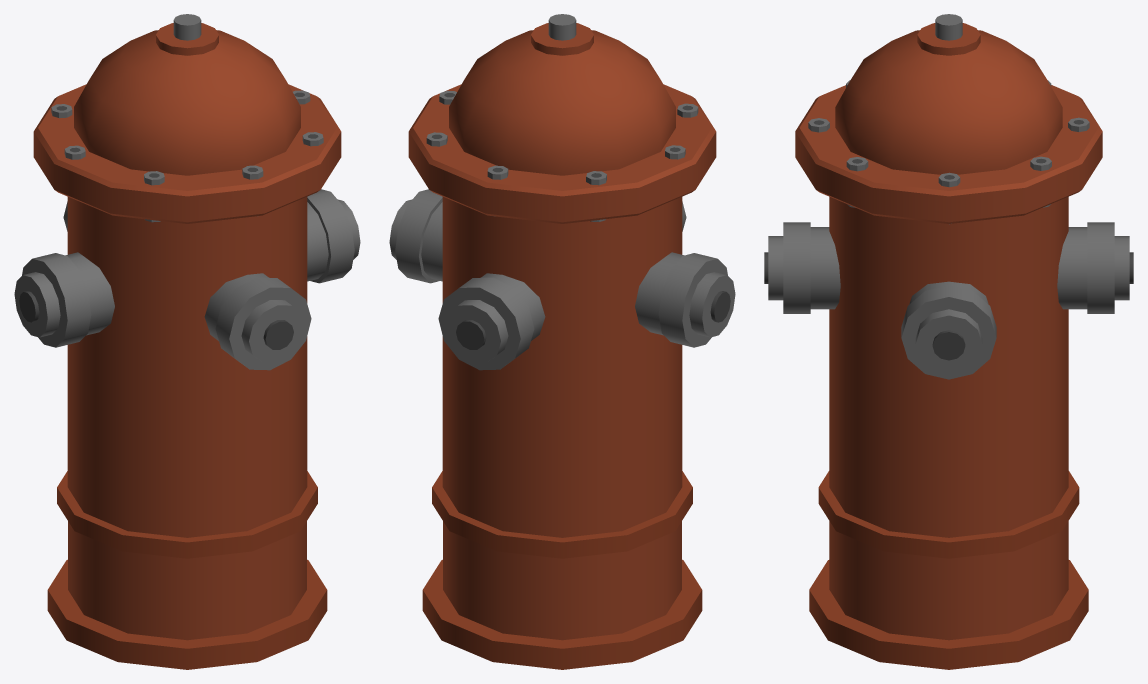
File: SM_FloorProps_01.fbx
The picture shows the model from 3 angles, left to right: view 1: azimuth 30°, elevation 25°; view 2: azimuth 150°, elevation 25°; view 3: azimuth 270°, elevation 25°; orthographic projection.
Parts seen in each view (by area): view 1: SM_FloorProps_01; view 2: SM_FloorProps_01; view 3: SM_FloorProps_01.
Part boxes in pixels (bbox=[...]): SM_FloorProps_01: bbox=[14, 14, 360, 669]; SM_FloorProps_01: bbox=[389, 14, 735, 669]; SM_FloorProps_01: bbox=[764, 14, 1133, 669].
Bounding box in the file's own units: 0.3606 × 0.6366 × 0.3606.
